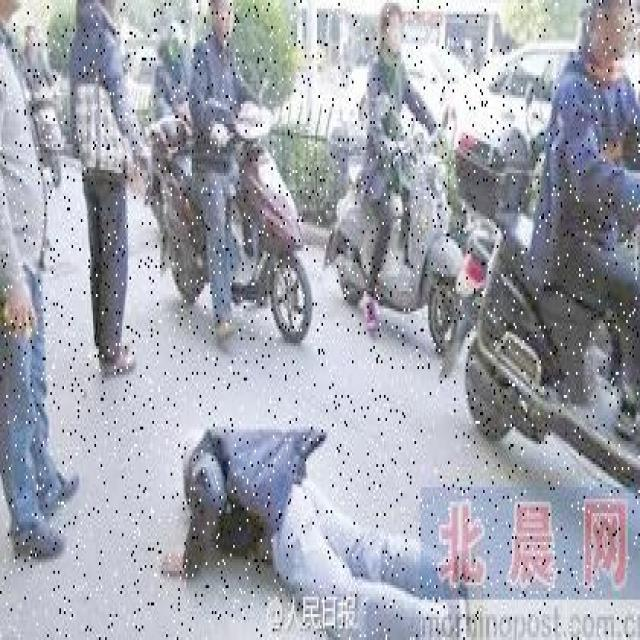fall: (169, 421, 445, 637)
